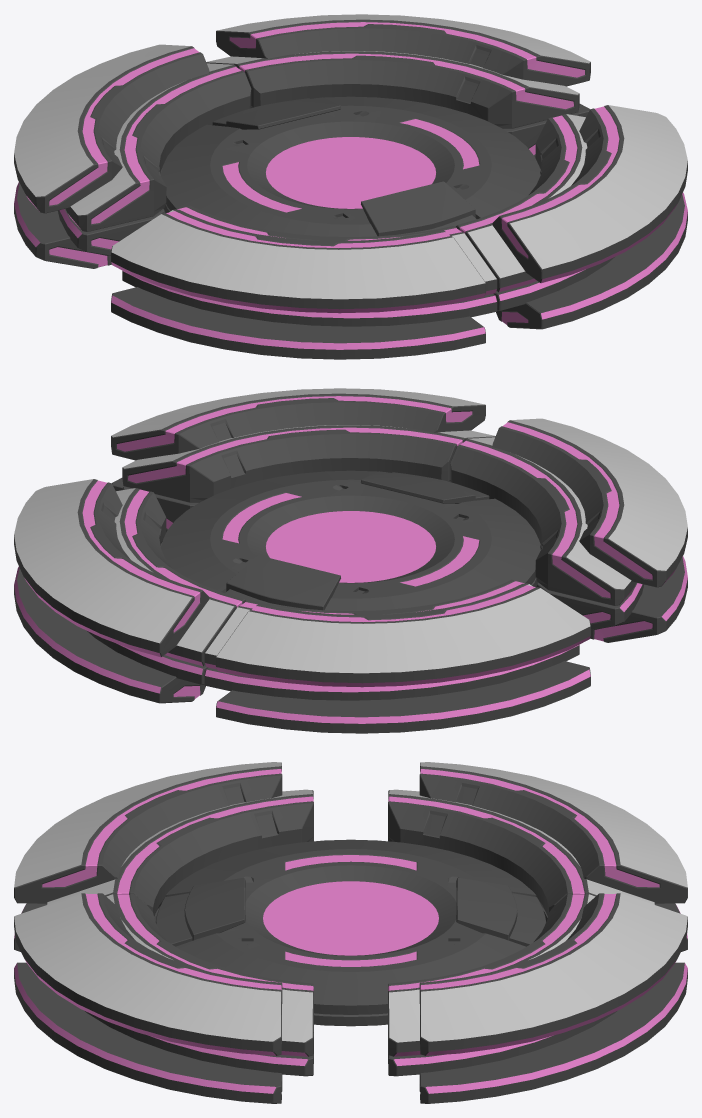
The model's file is disc.fbx.
The picture shows the model from 3 angles, top to bottom: view 1: azimuth 30°, elevation 25°; view 2: azimuth 150°, elevation 25°; view 3: azimuth 270°, elevation 25°; orthographic projection. The views are drawn at different scales.
Visible parts, largest first — view 1: disc_floating, disc_grabbed; view 2: disc_floating, disc_grabbed; view 3: disc_floating, disc_grabbed.
Part boxes in pixels (left/top/right/bottom): disc_floating: left=14, top=14, right=687, bottom=359; disc_grabbed: left=58, top=51, right=614, bottom=326; disc_floating: left=14, top=388, right=687, bottom=733; disc_grabbed: left=87, top=425, right=643, bottom=700; disc_floating: left=14, top=762, right=687, bottom=1103; disc_grabbed: left=47, top=789, right=654, bottom=1076.
Size of the model in its own units: 29.48 by 5.31 by 30.01.
